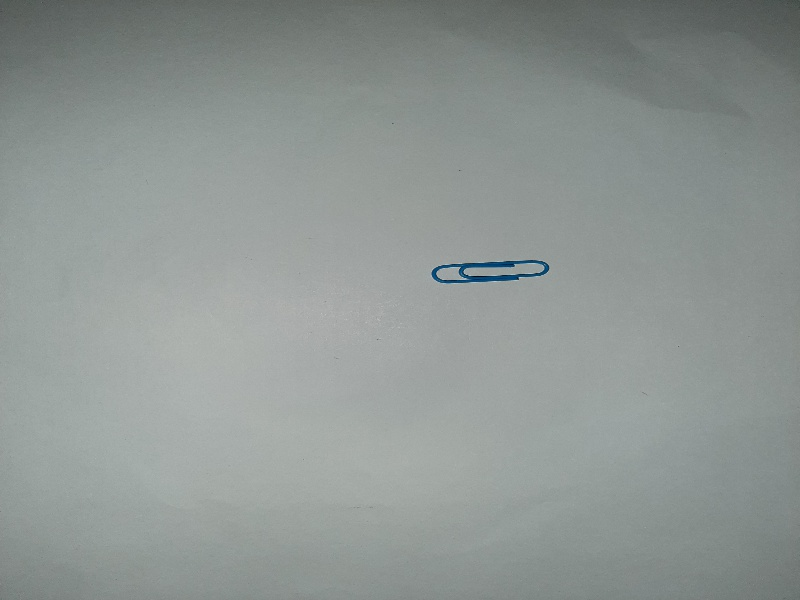Small Jumpclip: (421, 252, 557, 294)
